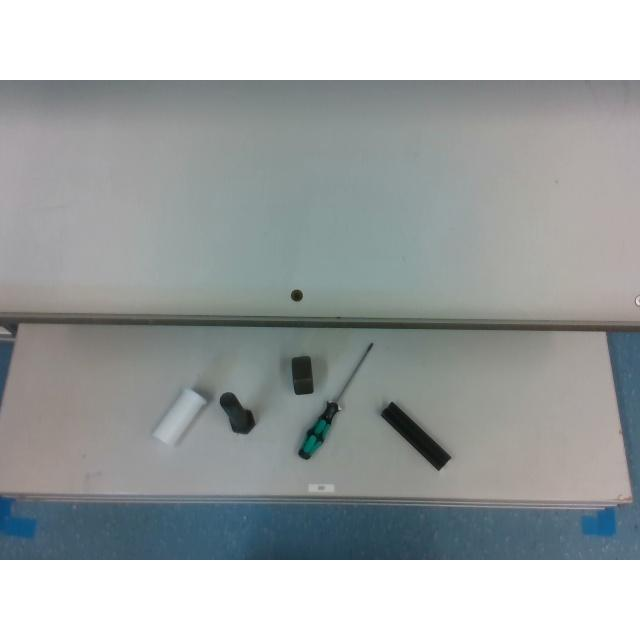F20_20_B: (381, 402, 451, 470)
M20_100: (218, 392, 254, 432)
M30: (291, 354, 313, 394)
Screwdriver: (298, 344, 370, 460)
Spacer: (152, 388, 208, 444)
